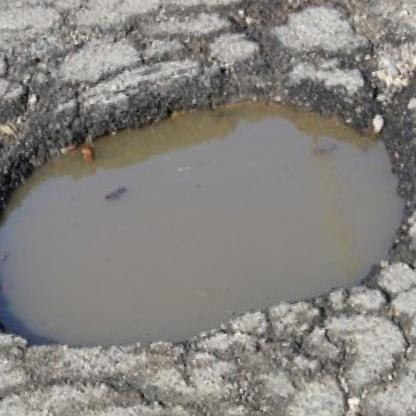pothole: (0, 25, 416, 389)
